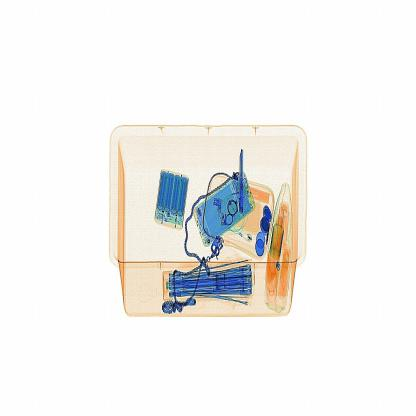pliers: (230, 140, 254, 220)
